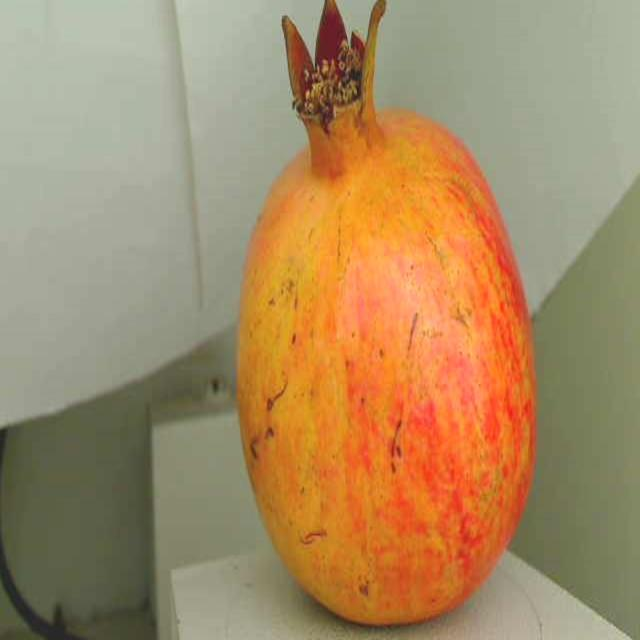pomegranate: (226, 0, 547, 640)
